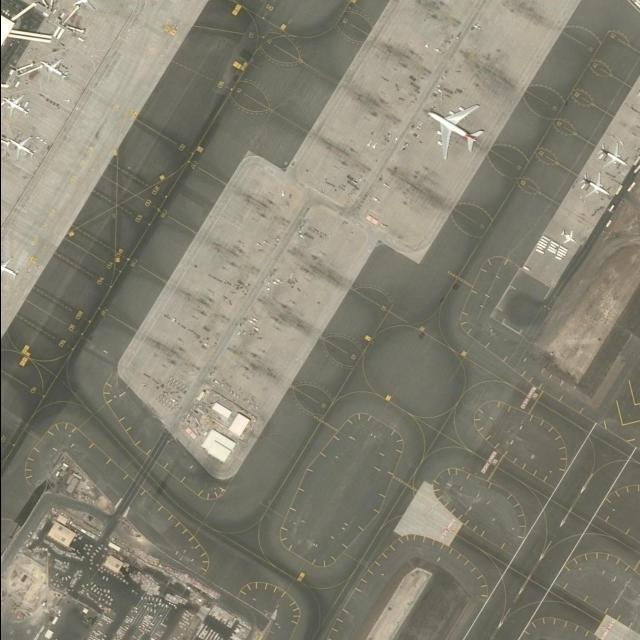Aircraft: (426, 101, 488, 159), (597, 143, 629, 167), (579, 173, 610, 197), (10, 135, 40, 159), (41, 58, 69, 82), (3, 93, 31, 117), (0, 256, 21, 280), (73, 1, 103, 11), (559, 229, 577, 243)
